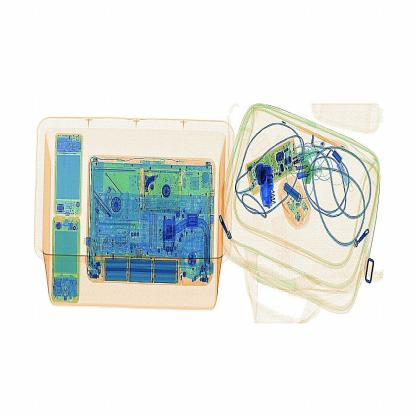scissors: (255, 161, 282, 214)
